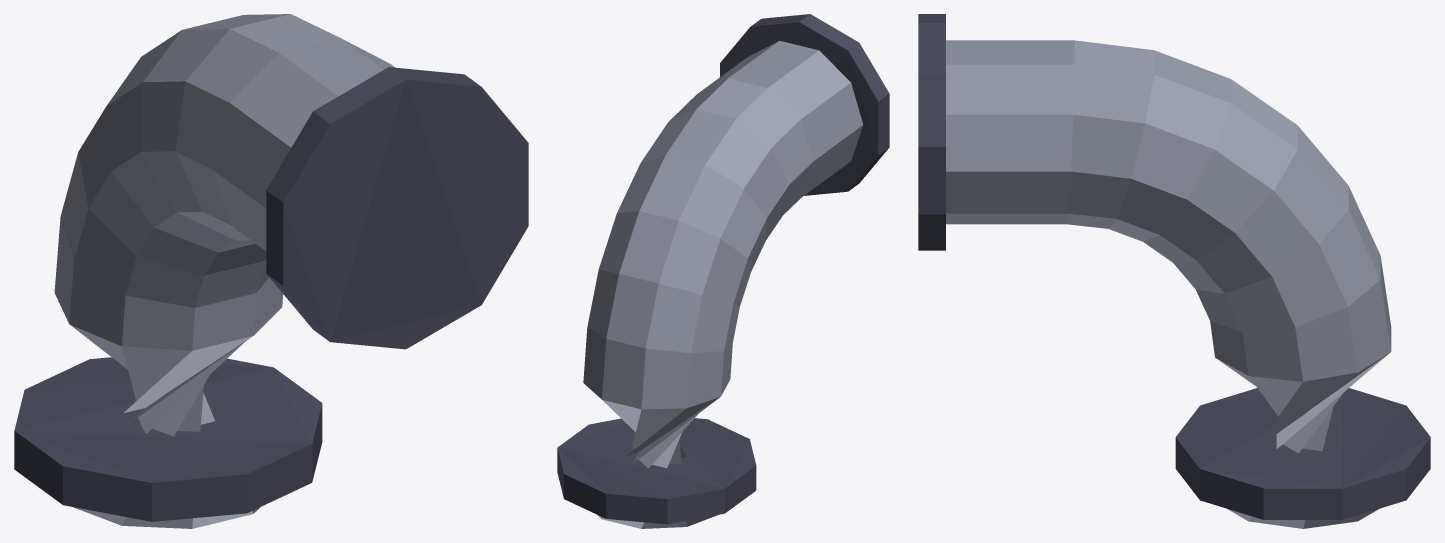
Rendered from Pipe_Elbow.fbx.
The picture shows the model from 3 angles, left to right: view 1: azimuth 30°, elevation 25°; view 2: azimuth 150°, elevation 25°; view 3: azimuth 270°, elevation 25°; orthographic projection. The views are drawn at different scales.
Visible parts, largest first — view 1: Pipe_Elbow; view 2: Pipe_Elbow; view 3: Pipe_Elbow.
Part boxes in pixels (<box>): Pipe_Elbow: <box>14,14,528,528</box>; Pipe_Elbow: <box>557,14,889,528</box>; Pipe_Elbow: <box>918,14,1430,528</box>.
Size of the model in its own units: 1.05 by 2.22 by 2.21.
